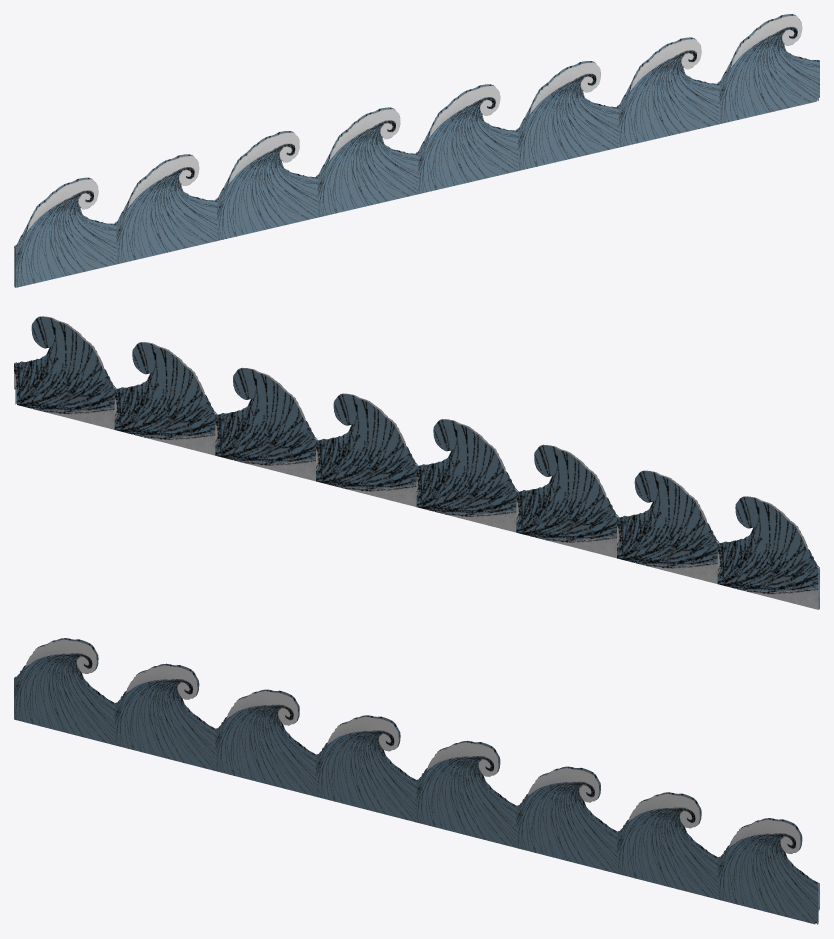
File: water2.obj
The picture shows the model from 3 angles, top to bottom: view 1: azimuth 30°, elevation 25°; view 2: azimuth 150°, elevation 25°; view 3: azimuth 330°, elevation 25°; orthographic projection. The views are drawn at different scales.
Parts seen in each view (by area): view 1: pCube14; view 2: pCube14; view 3: pCube14.
Part boxes in pixels (box(x1,y1,x2,y2)): pCube14: box(14, 14, 819, 287); pCube14: box(14, 316, 819, 609); pCube14: box(14, 638, 819, 924).
Size of the model in its own units: 40.92 by 4.58 by 0.972.
1 material, 1 textured.
